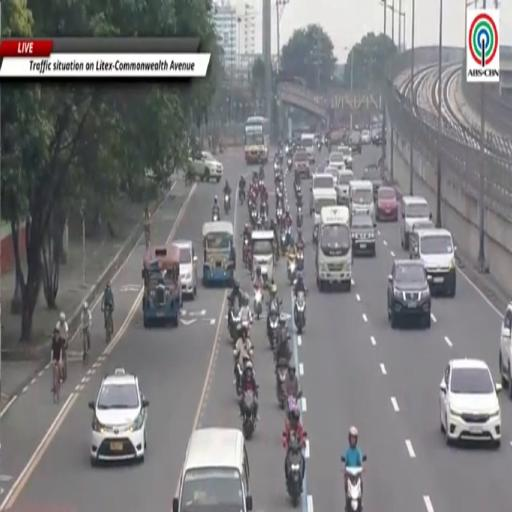bus: (245, 117, 269, 164)
car: (89, 368, 148, 466), (440, 359, 501, 446), (410, 228, 456, 297), (388, 260, 431, 328), (173, 240, 197, 299), (499, 302, 511, 399), (409, 219, 435, 259), (351, 215, 375, 257), (190, 152, 223, 182), (375, 186, 398, 221), (363, 164, 383, 200), (337, 169, 354, 205), (294, 150, 310, 179), (337, 146, 353, 169), (324, 166, 339, 187), (328, 152, 345, 169), (349, 132, 362, 154), (372, 126, 382, 146), (361, 130, 371, 145)
jeepney: (142, 246, 182, 327), (203, 221, 235, 285), (313, 188, 336, 243), (251, 231, 275, 281)
motorcycle: (286, 440, 305, 507), (233, 349, 253, 396), (345, 468, 362, 511), (242, 391, 255, 440), (276, 359, 288, 409), (274, 327, 291, 362), (228, 304, 241, 343), (267, 307, 279, 349), (294, 292, 305, 333), (254, 288, 263, 319), (287, 256, 296, 284), (243, 237, 251, 267), (280, 231, 287, 254), (297, 250, 304, 271), (297, 206, 303, 229), (251, 208, 258, 227), (294, 182, 302, 197), (224, 195, 230, 214), (276, 207, 283, 223), (261, 201, 268, 216), (239, 187, 245, 204), (296, 190, 302, 206), (277, 150, 283, 166), (287, 157, 293, 172), (212, 211, 219, 221), (274, 162, 280, 172), (317, 142, 321, 152)
truck: (315, 206, 353, 291)
